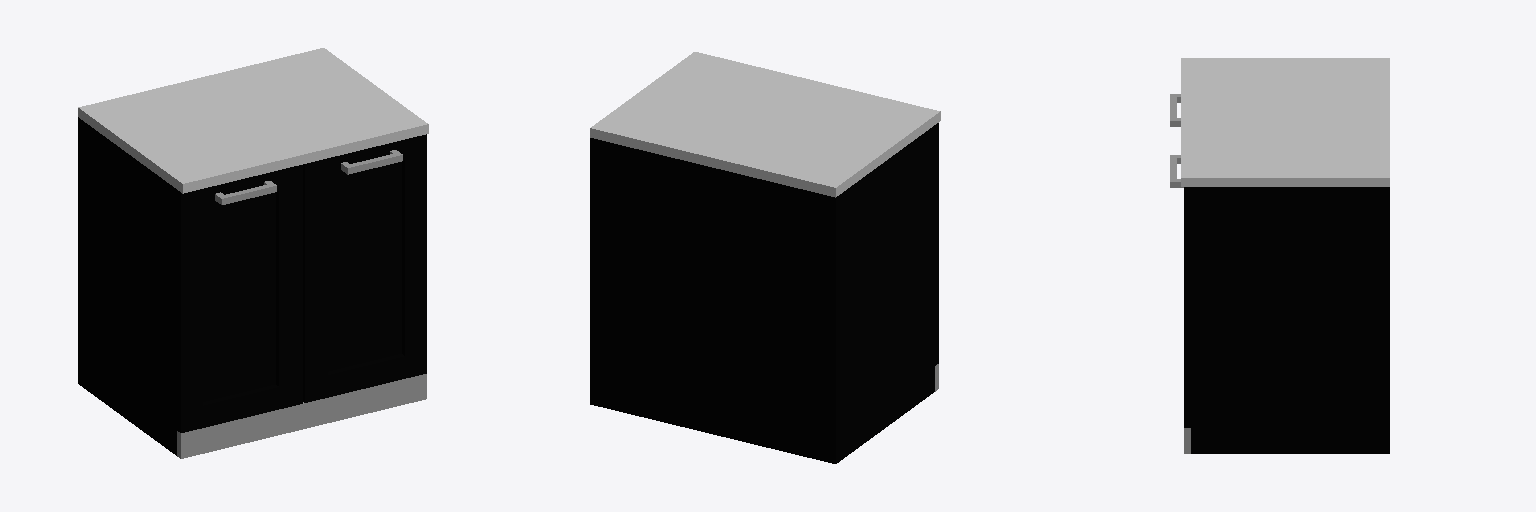
The model's file is cabinet.obj.
3 views of the same model, side by side, from view 1: azimuth 30°, elevation 25°; view 2: azimuth 150°, elevation 25°; view 3: azimuth 270°, elevation 25° (orthographic).
Parts seen in each view (by area): view 1: Cube_Cube.001, Cube.001_Cube.002, Cube.003_Cube.004, Cube.002_Cube.003, Cube.005_Cube.006; view 2: Cube_Cube.001, Cube.003_Cube.004, Cube.001_Cube.002; view 3: Cube_Cube.001, Cube.003_Cube.004, Cube.001_Cube.002.
Part boxes in pixels (x1,y1,x2,y2): Cube_Cube.001: (78,117,401,455); Cube.001_Cube.002: (177,134,426,432); Cube.003_Cube.004: (78,48,428,193); Cube.002_Cube.003: (177,374,426,458); Cube.005_Cube.006: (225,154,396,203); Cube_Cube.001: (590,125,934,463); Cube.003_Cube.004: (590,52,940,197); Cube.001_Cube.002: (935,123,938,365); Cube_Cube.001: (1191,187,1389,453); Cube.003_Cube.004: (1181,58,1389,186); Cube.001_Cube.002: (1184,187,1190,427).
Bounding box in the file's own units: 80 × 86 × 62.